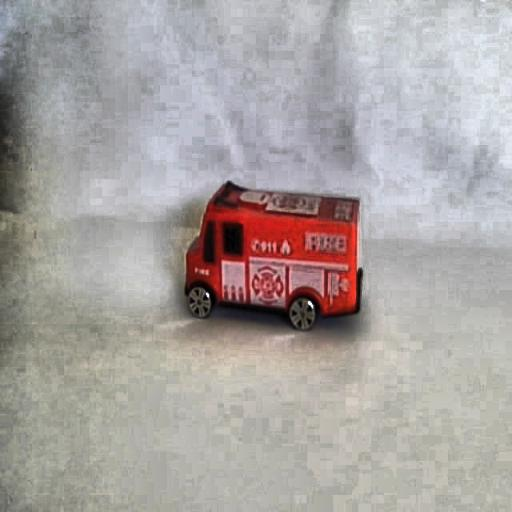fire_truck: (179, 177, 363, 332), (184, 233, 205, 306)
